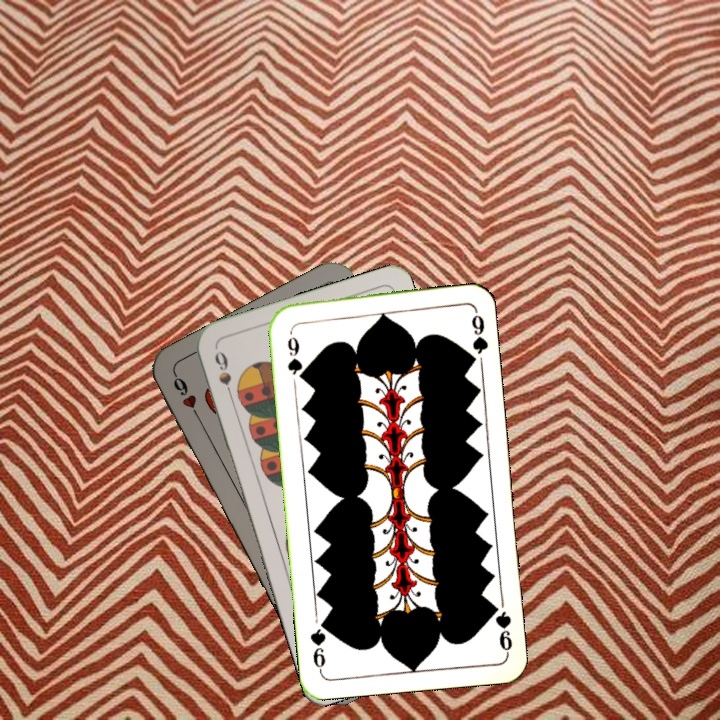G9: (486, 598, 515, 656), (283, 325, 307, 383)
H9: (169, 370, 204, 424)
S9: (210, 347, 237, 404)
